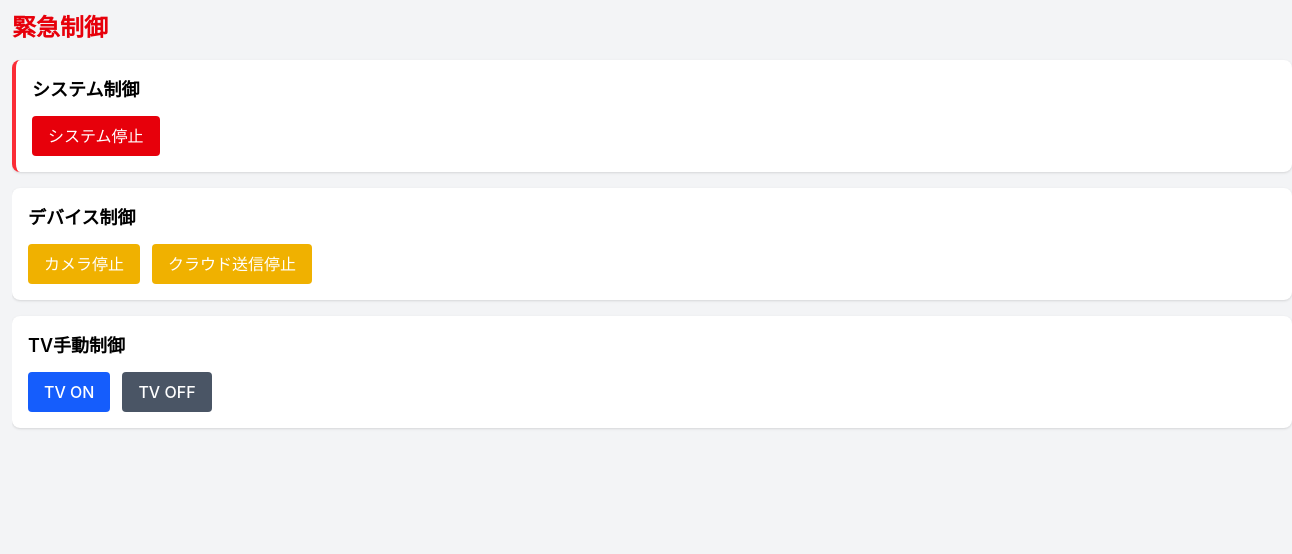
Test: EmergencyControl › should toggle cloud processing
Step 1. Click the button with test id "cloud-toggle" → (232, 264), box [152,244,312,284]
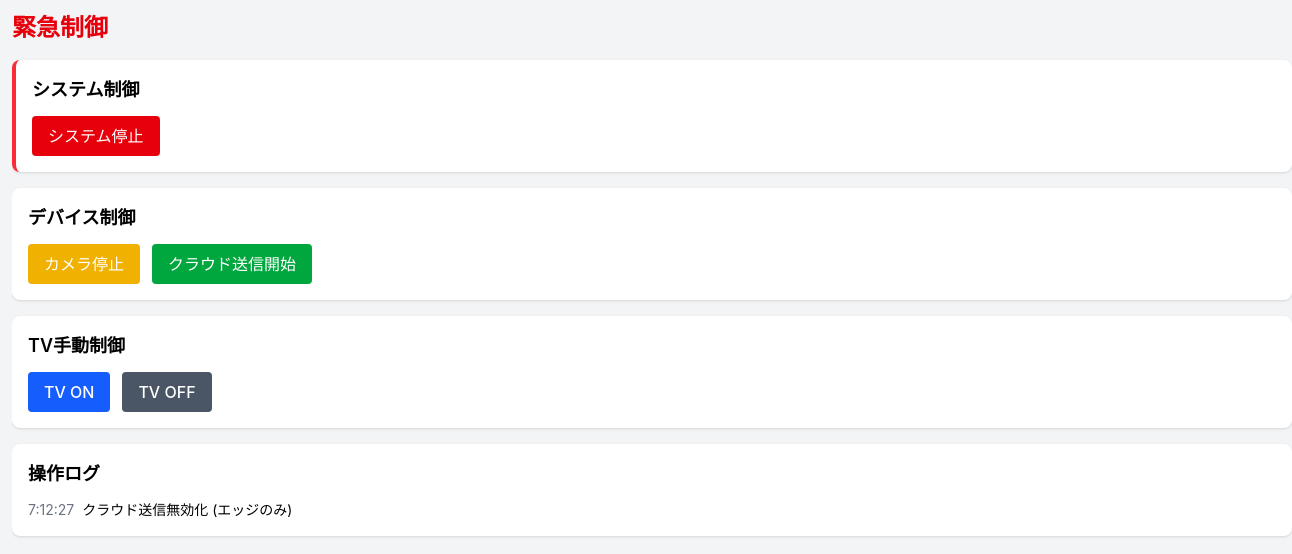
expect the button with test id "cloud-toggle" reads "クラウド送信開始": met, box [152,244,312,284]
